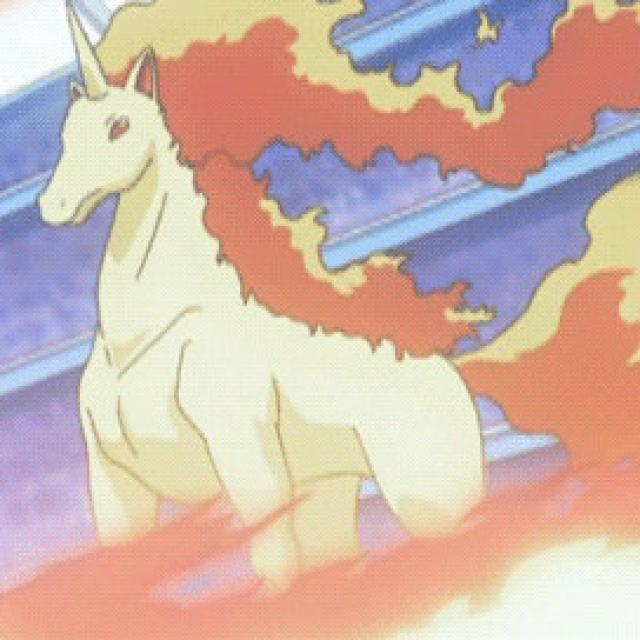Rapidash: (35, 0, 488, 524)
